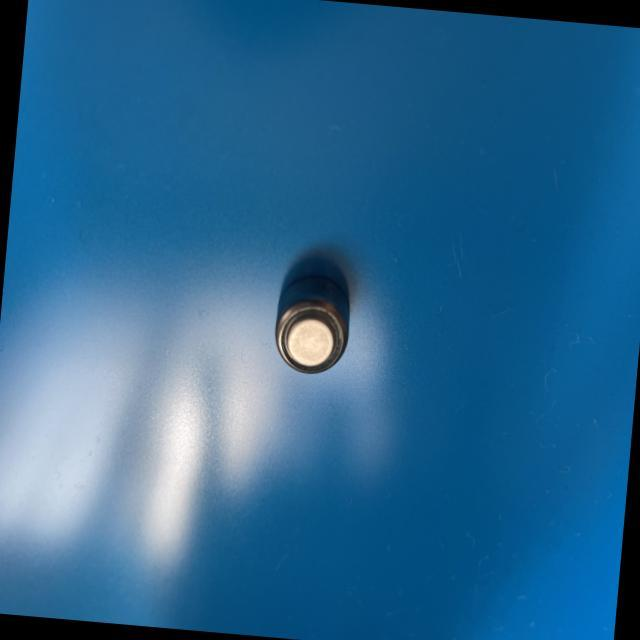COIN: (266, 273, 352, 375)
